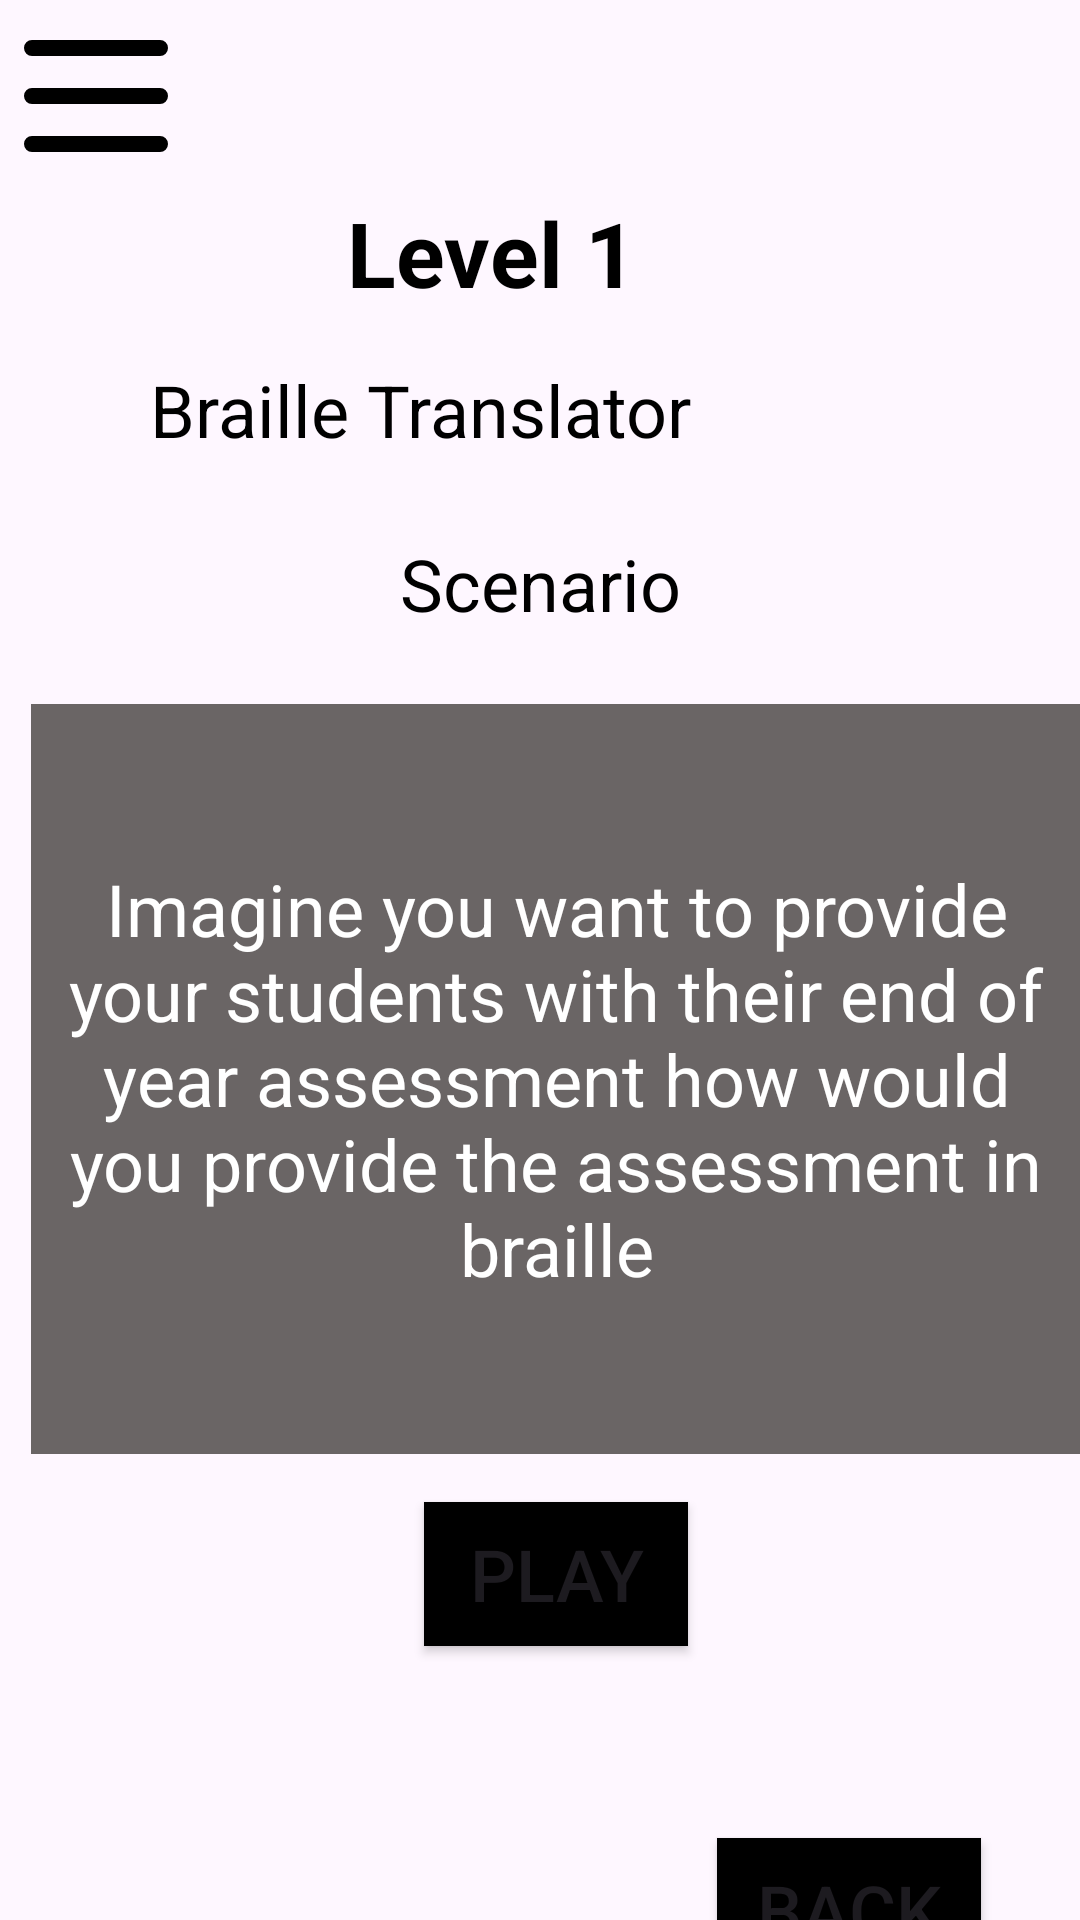

Screen size 1080w x 1920h. Icon name, then its center in pixels as point (x, y):
menu: point (96, 96)
